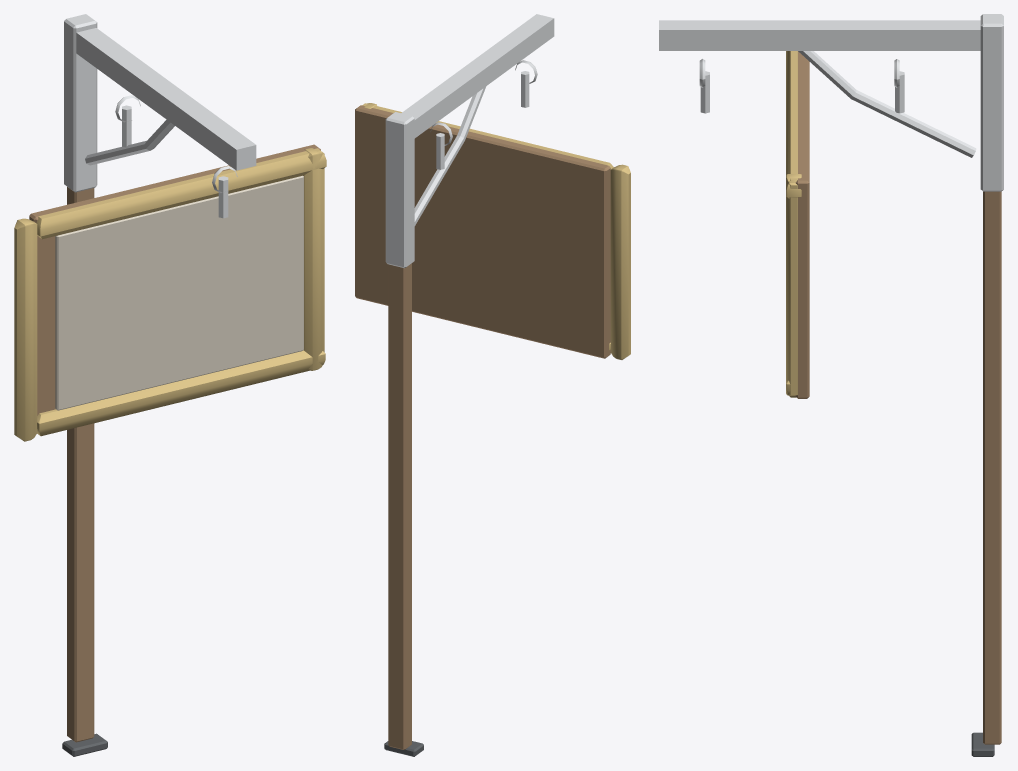
Rendered from bar-pub-and-brewery-taproom-brewery-sign-frame-0a04c6a7__18419.glb.
The picture shows the model from 3 angles, left to right: view 1: azimuth 30°, elevation 25°; view 2: azimuth 150°, elevation 25°; view 3: azimuth 270°, elevation 25°; orthographic projection. The views are drawn at different scales.
Visible parts, largest first — view 1: brewery-sign-frame; view 2: brewery-sign-frame; view 3: brewery-sign-frame.
Part boxes in pixels (left/top/right/bottom): brewery-sign-frame: left=14, top=14, right=326, bottom=756; brewery-sign-frame: left=355, top=14, right=630, bottom=756; brewery-sign-frame: left=659, top=14, right=1003, bottom=756.
Bounding box in the file's own units: 0.7712 × 1.74 × 0.745.
